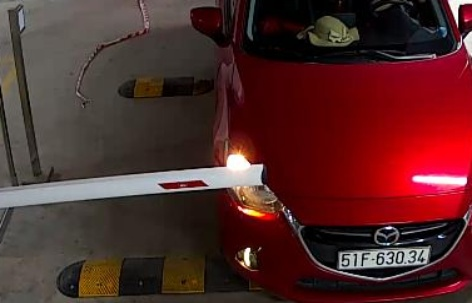plate: (335, 244, 437, 271)
